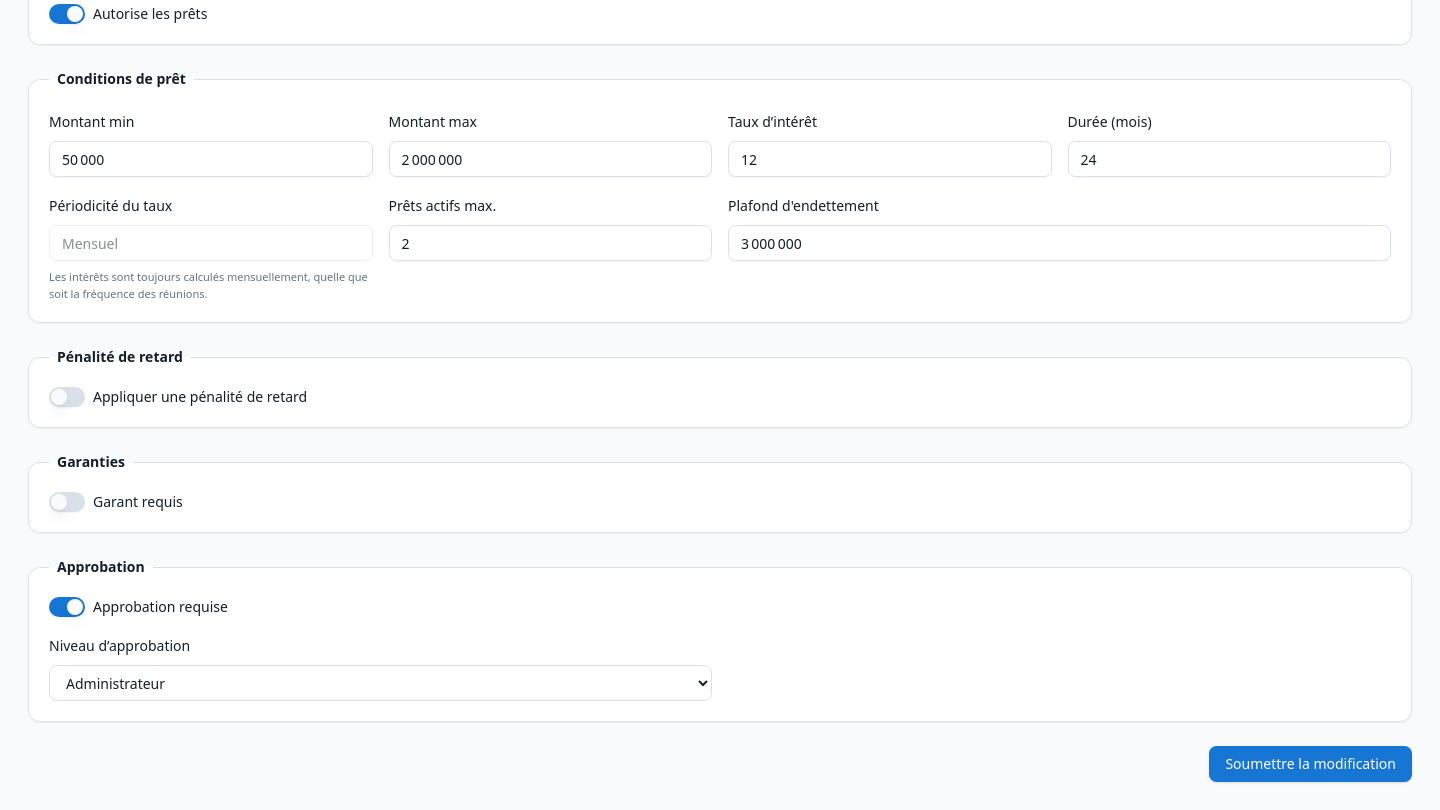
Paramètres → Règle de crédit (règle unique du tenant) › Approbation requise OFF : le niveau d’approbation est masqué, puis réaffiché à la réactivation
(page scrolled)
expect the dropdown labelled "Niveau d’approbation" is shown: met, box [49,665,712,701]
Click the switch named "Approbation requise" next to "Approbation requise". click: (67, 607)
box: [49,597,85,617]
(page scrolled)
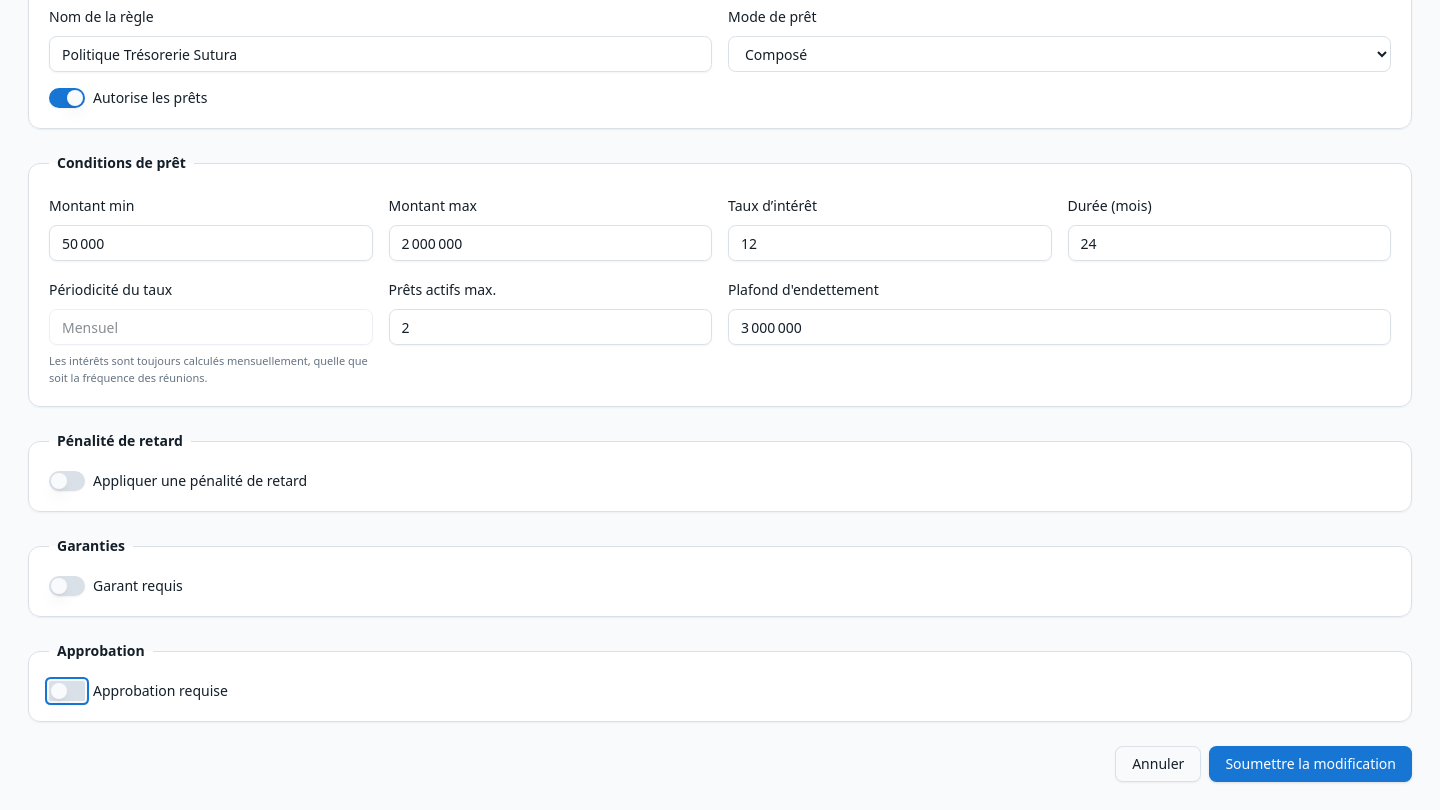
expect the label labelled "Niveau d’approbation" is gone: met
Click the switch named "Approbation requise" next to "Approbation requise". click: (67, 691)
box: [49,681,85,701]
(page scrolled)
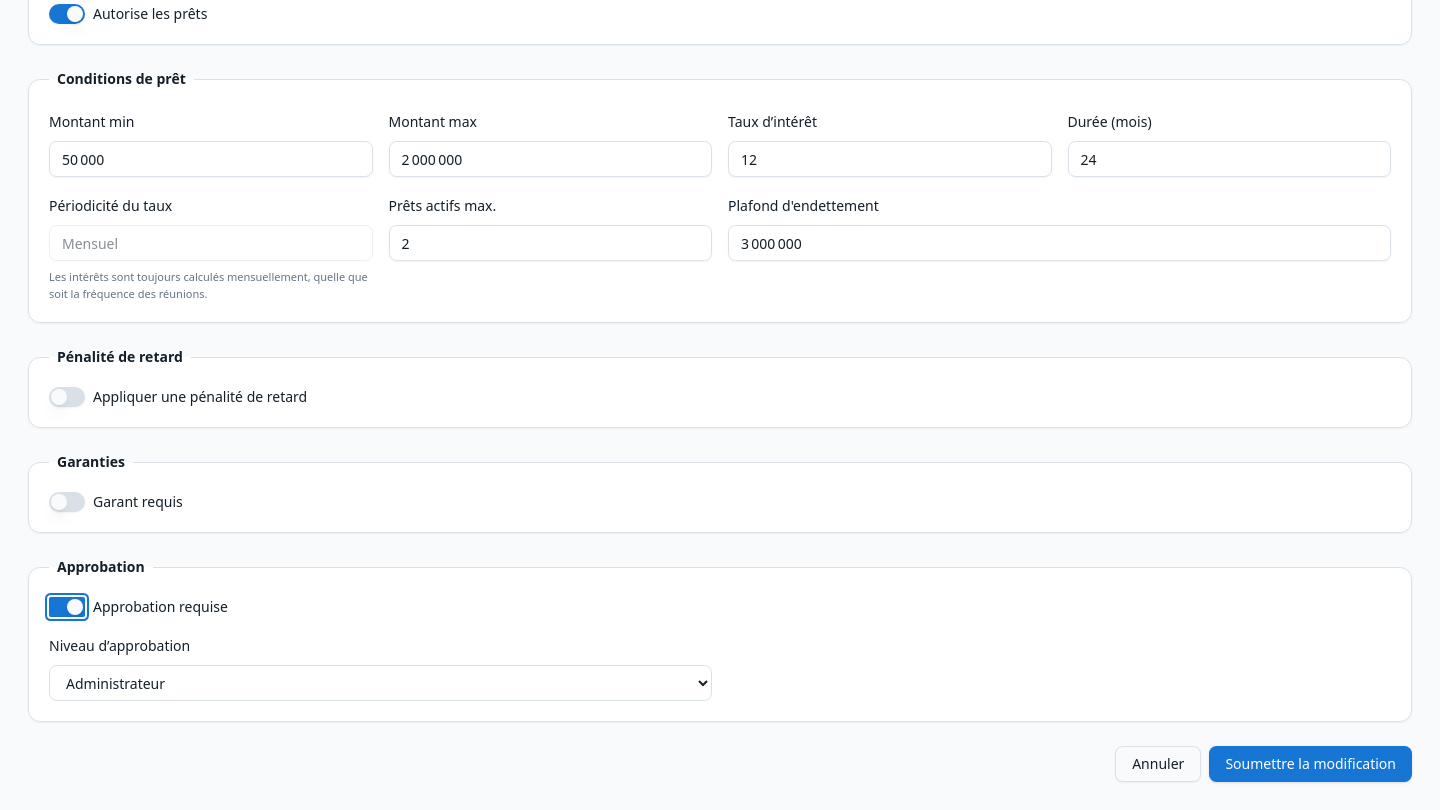
expect the dropdown labelled "Niveau d’approbation" shows "Administrateur": met, box [49,665,712,701]
